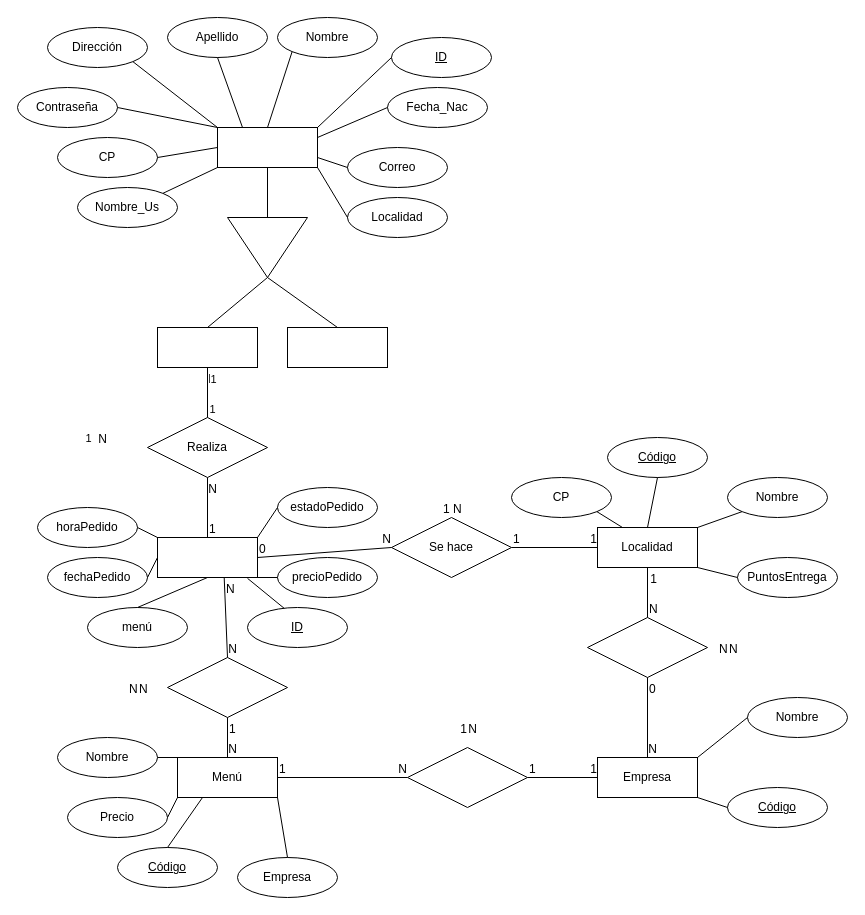
The diagram is 865 pixels wide and 915 high, and some of its shapes have lost their labels. The centre of each missing label's shape, as x and y in pixels:
"Cliente" belongs at (207,347).
"Empleado" belongs at (337,347).
"Pedido" belongs at (207,557).
"Persona" belongs at (267,147).
"Sirve" belongs at (647,647).
"Tiene" belongs at (227,687).
"Venden" belongs at (467,777).
